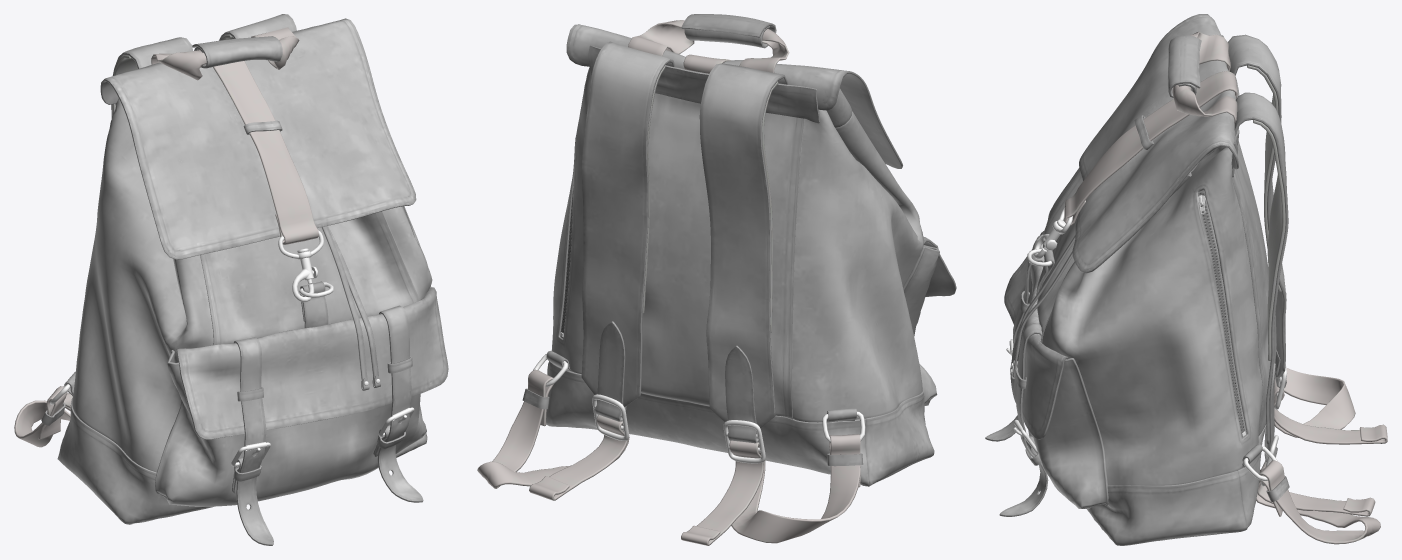
The model's file is backpack-transformed.glb.
3 renders of one model, left to right at view 1: azimuth 30°, elevation 25°; view 2: azimuth 150°, elevation 25°; view 3: azimuth 270°, elevation 25°, orthographic. The views are drawn at different scales.
Visible parts, largest first — view 1: Back_pack_001; view 2: Back_pack_001; view 3: Back_pack_001.
Boxes of the visible parts, bbox=[...] form: Back_pack_001: bbox=[14, 14, 448, 545]; Back_pack_001: bbox=[477, 14, 956, 545]; Back_pack_001: bbox=[985, 14, 1387, 545].
Size of the model in its own units: 0.389 by 0.4762 by 0.4154.
Materials: 3 (2 with a texture image).
